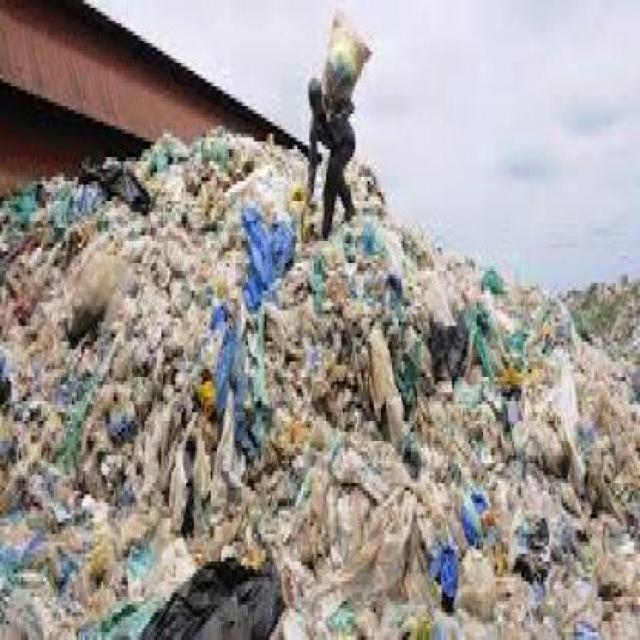garbage: (0, 122, 308, 636), (314, 232, 638, 636), (320, 5, 376, 95), (356, 157, 399, 232)
